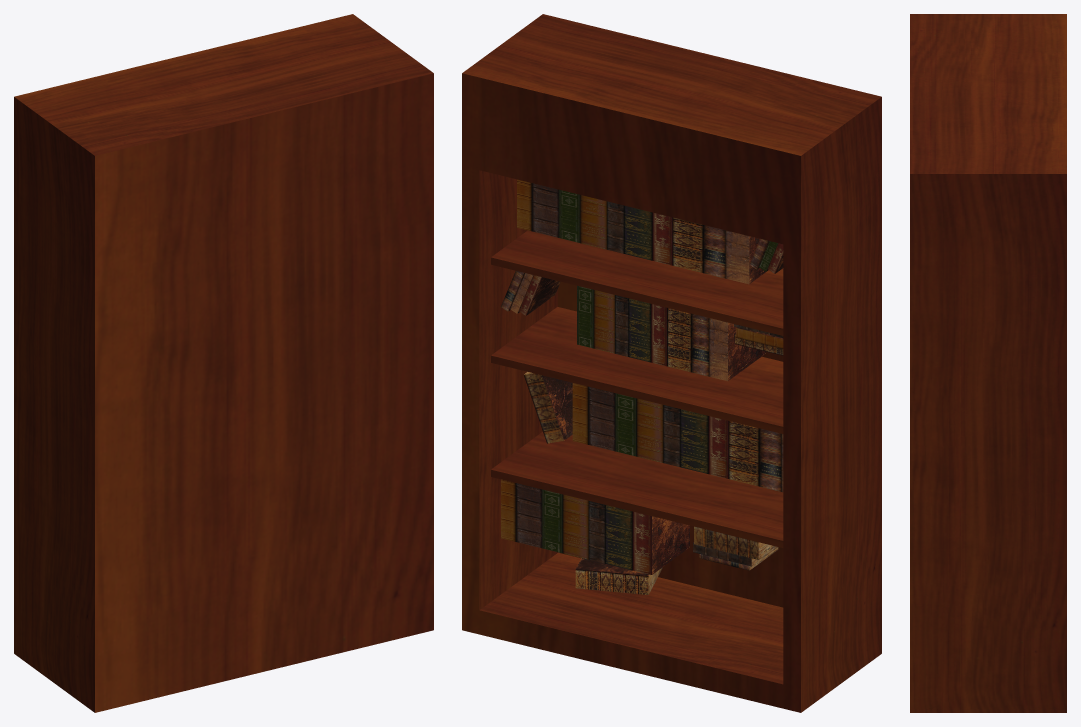
File: bookshelf.glb
3 renders of one model, left to right at view 1: azimuth 30°, elevation 25°; view 2: azimuth 150°, elevation 25°; view 3: azimuth 270°, elevation 25°, orthographic. The views are drawn at different scales.
Visible parts, largest first — view 1: Bookshelf; view 2: Bookshelf; view 3: Bookshelf.
Boxes of the visible parts, x1,y1,x2,y2 form: Bookshelf: [14, 14, 433, 712]; Bookshelf: [462, 14, 881, 712]; Bookshelf: [910, 14, 1066, 712].
Bounding box in the file's own units: 1.05 × 1.65 × 0.4359.
Materials: 1 (1 with a texture image).
